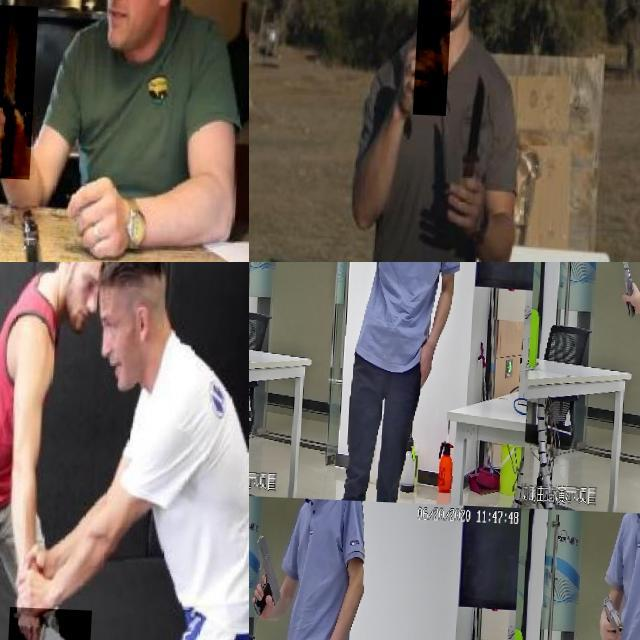-: (444, 66, 492, 227), (0, 0, 40, 176), (415, 0, 454, 112), (11, 604, 96, 640)
gun-knife-thesis - v11 Yolov5 augmented: (252, 532, 288, 617), (602, 590, 629, 640), (618, 262, 640, 311), (262, 262, 300, 281)
